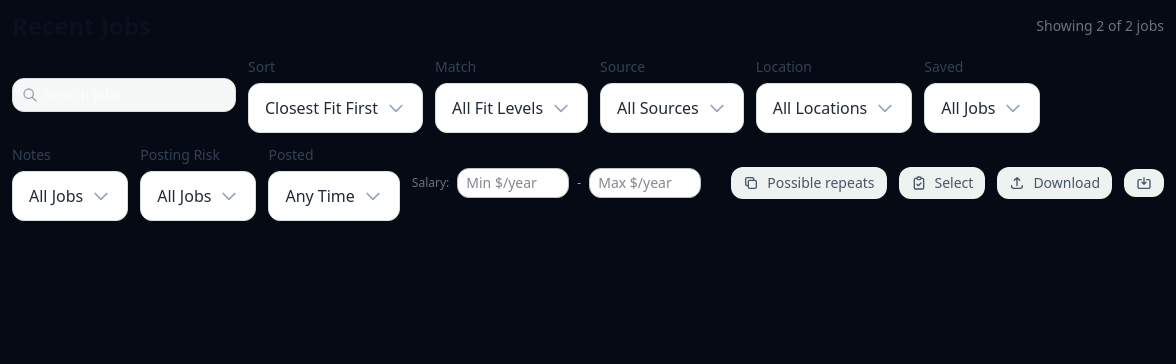
it: DashboardFiltersBar plain-language actions › labels source choices without raw source IDs
Click the button "All Sources" at [672, 108], box left=600, top=83, right=744, bottom=133
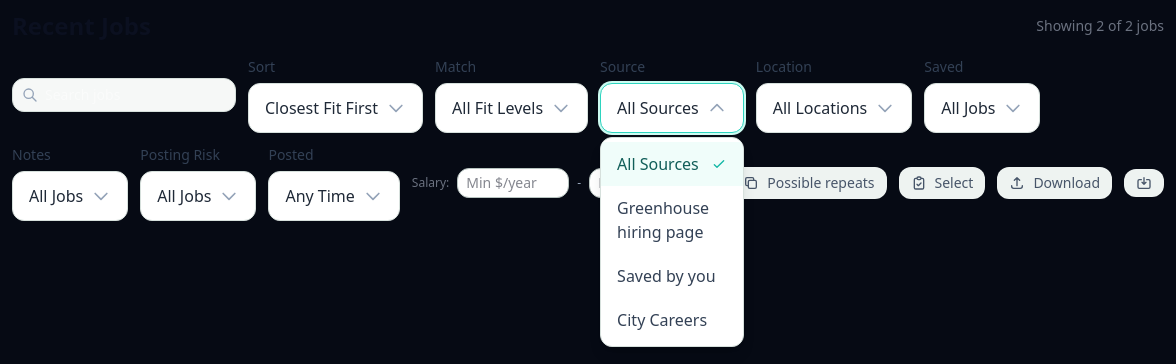
Check: the option "Greenhouse hiring page" is shown, box left=617, top=197, right=709, bottom=243
Check: the option "Saved by you" is shown, box left=617, top=265, right=716, bottom=287
Check: the option "City Careers" is shown, box left=617, top=309, right=707, bottom=331
